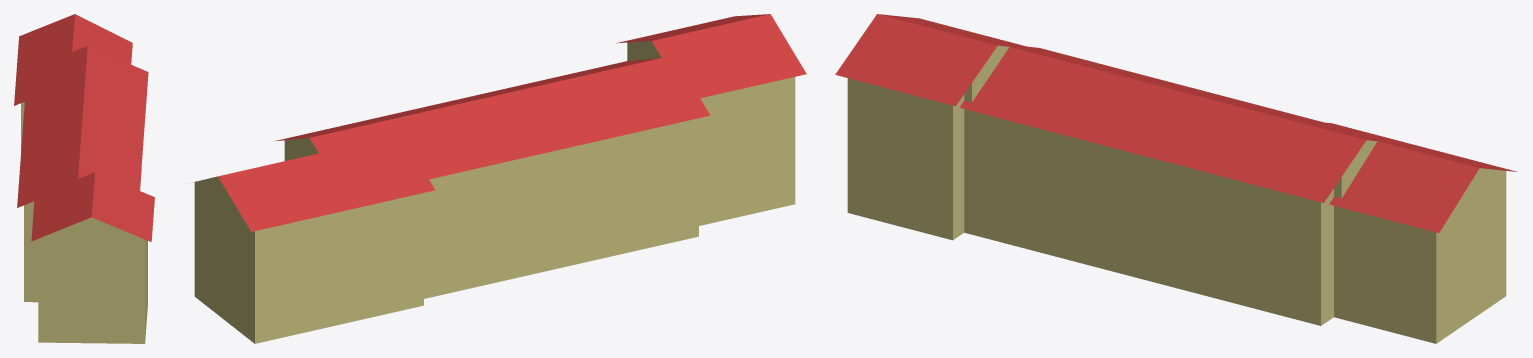
3 views of the same model, side by side, from view 1: azimuth 30°, elevation 25°; view 2: azimuth 150°, elevation 25°; view 3: azimuth 270°, elevation 25° (orthographic). The views are drawn at different scales.
Visible parts, largest first — view 1: group_3, group_5, group_7, group_4, group_11, group_12; view 2: group_5, group_3, group_4, group_13, group_7, group_9; view 3: group_9, group_7, group_5, group_13, group_3, group_11, group_4, group_12.
Part boxes in pixels (left/top/right/bottom): group_3: left=14, top=15, right=154, bottom=241; group_5: left=21, top=102, right=147, bottom=343; group_7: left=78, top=46, right=148, bottom=190; group_4: left=14, top=14, right=150, bottom=241; group_11: left=72, top=14, right=131, bottom=61; group_12: left=88, top=21, right=132, bottom=64; group_5: left=225, top=41, right=795, bottom=343; group_3: left=218, top=14, right=794, bottom=223; group_4: left=218, top=14, right=806, bottom=231; group_13: left=194, top=176, right=225, bottom=320; group_7: left=274, top=58, right=660, bottom=141; group_9: left=284, top=138, right=309, bottom=160; group_9: left=972, top=111, right=1366, bottom=325; group_7: left=959, top=47, right=1366, bottom=202; group_5: left=847, top=45, right=1506, bottom=319; group_13: left=1341, top=181, right=1471, bottom=343; group_3: left=835, top=14, right=1505, bottom=169; group_11: left=1330, top=141, right=1479, bottom=232; group_4: left=835, top=14, right=1517, bottom=171; group_12: left=1329, top=174, right=1475, bottom=232.
Bounding box in the file's own units: 37.9 × 56.84 × 15.72.
